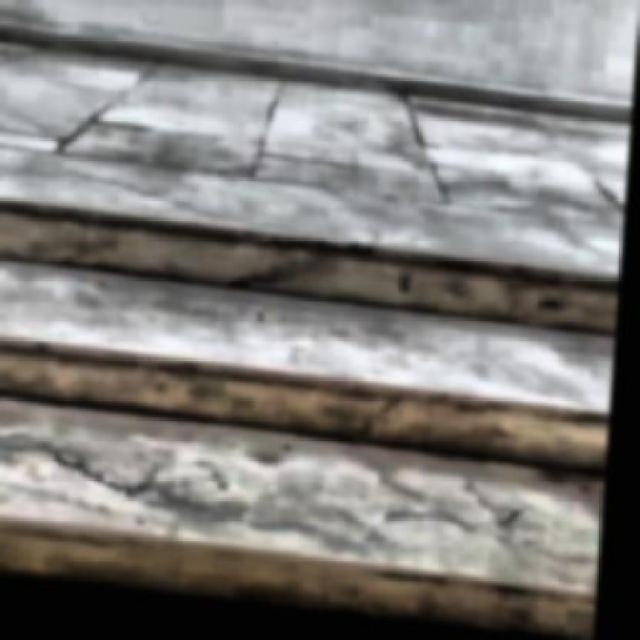stair: (2, 212, 623, 638)
